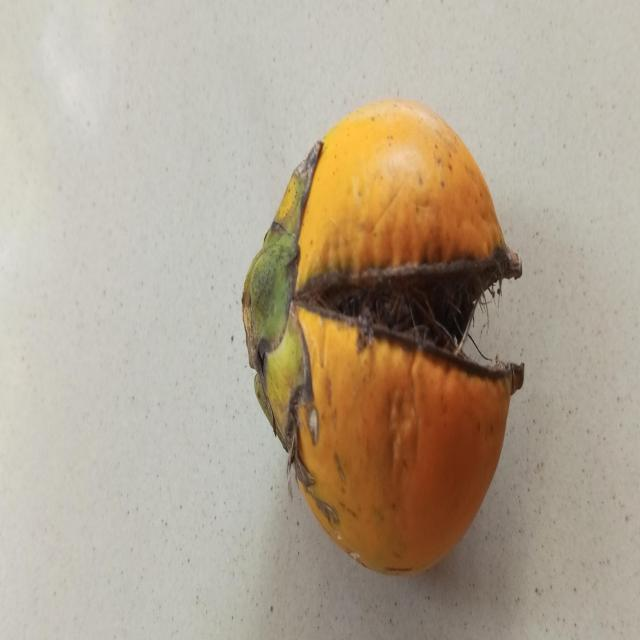damaged: (242, 99, 524, 577)
